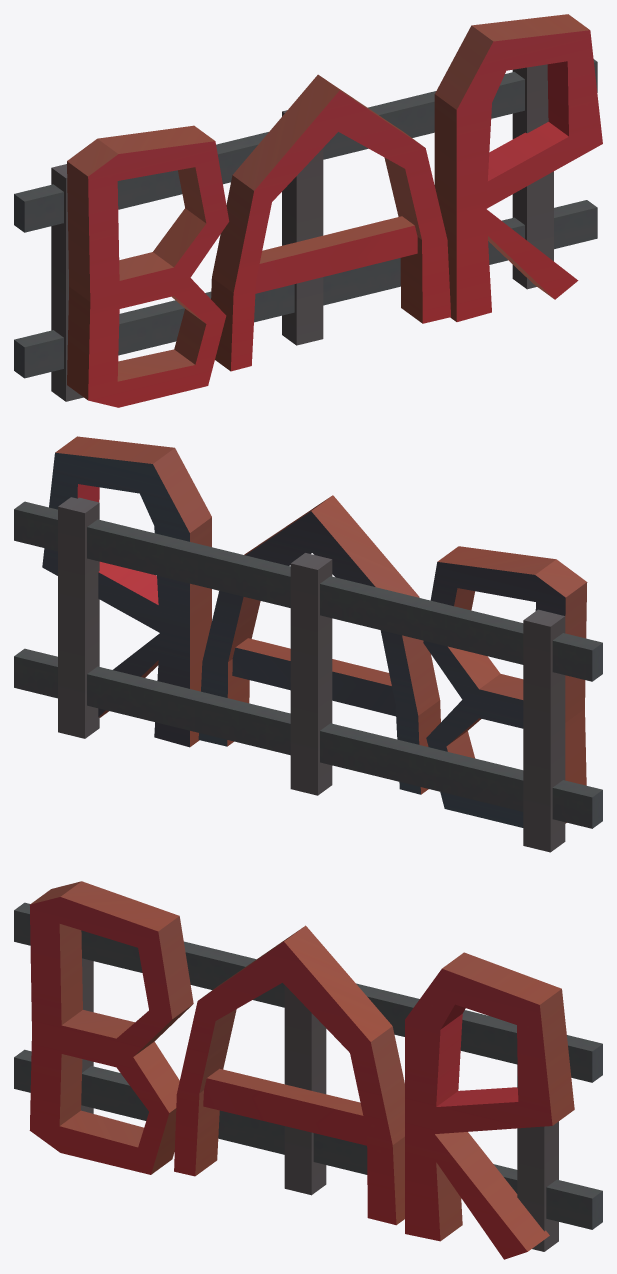
File: SM_Hoarding_06.FBX
3 renders of one model, top to bottom at view 1: azimuth 30°, elevation 25°; view 2: azimuth 150°, elevation 25°; view 3: azimuth 330°, elevation 25°, orthographic.
Visible parts, largest first — view 1: SM_Hoarding_06; view 2: SM_Hoarding_06; view 3: SM_Hoarding_06.
Part boxes in pixels (x1=…): SM_Hoarding_06: x1=14, y1=14, x2=602, y2=407; SM_Hoarding_06: x1=14, y1=436, x2=602, y2=852; SM_Hoarding_06: x1=14, y1=881, x2=602, y2=1259.
Size of what is drawn, in the model's own units: 596 by 65.74 by 275.
